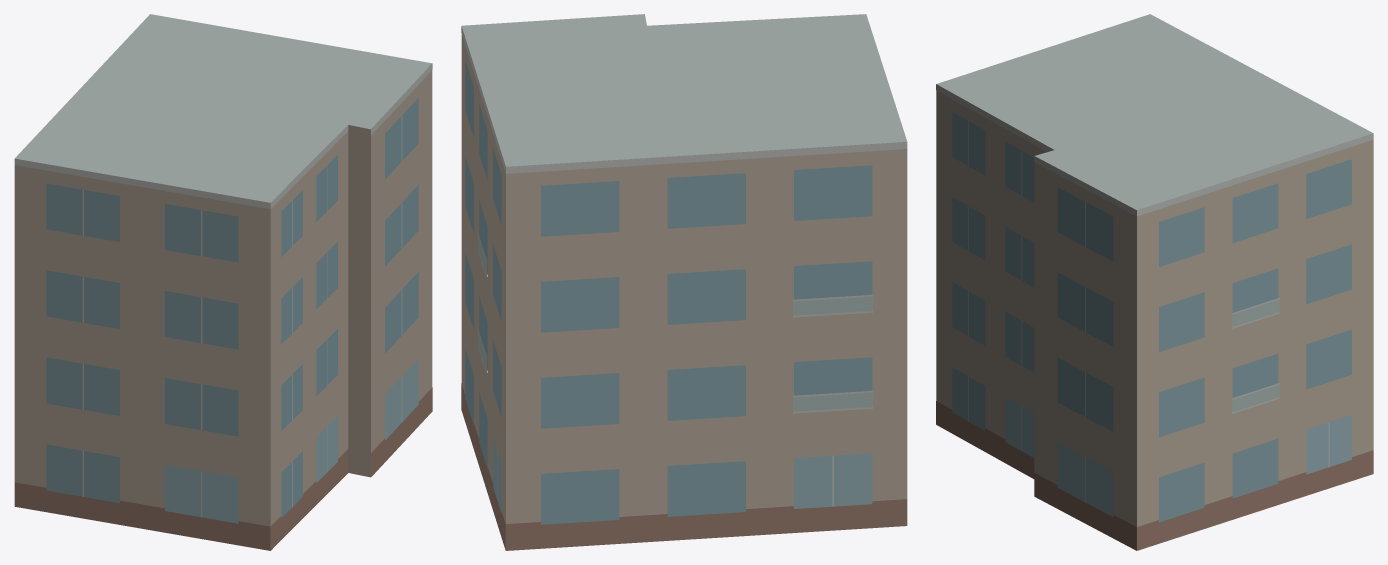
File: survey-upis-32859085.glb
3 renders of one model, left to right at view 1: azimuth 30°, elevation 25°; view 2: azimuth 150°, elevation 25°; view 3: azimuth 270°, elevation 25°, orthographic. The views are drawn at different scales.
Parts seen in each view (by area): view 1: survey-upis-32859085.tmp; view 2: survey-upis-32859085.tmp; view 3: survey-upis-32859085.tmp.
Boxes of the visible parts, box(x1,y1,x2,y2) form: survey-upis-32859085.tmp: box(14, 14, 432, 550); survey-upis-32859085.tmp: box(461, 14, 907, 550); survey-upis-32859085.tmp: box(936, 14, 1373, 550).
Size of the model in its own units: 16.32 by 13.2 by 15.37.
